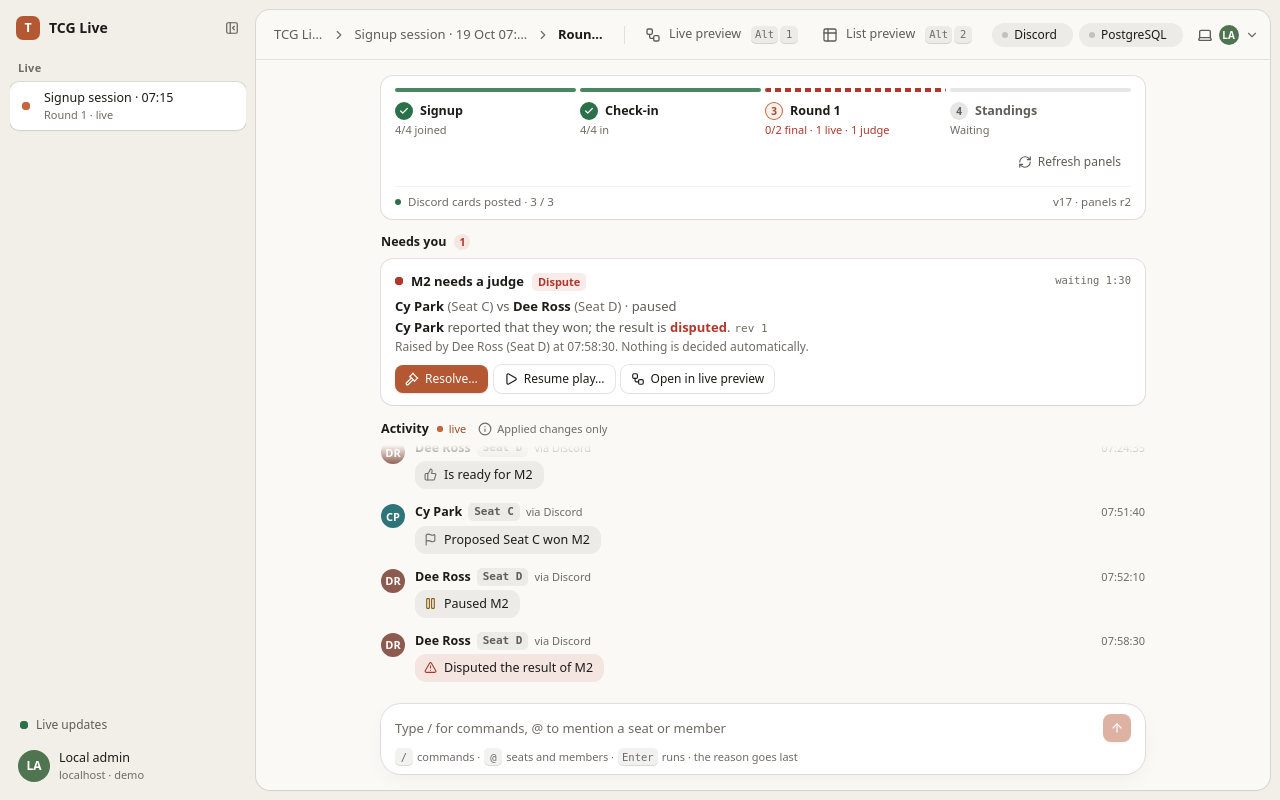
reason dialogs › on 409 puts the returned snapshot into the cache before the admin decides again
(page scrolled)
Click the button with aria-label "Resolve M2": x=441, y=379 [395, 365, 488, 393]
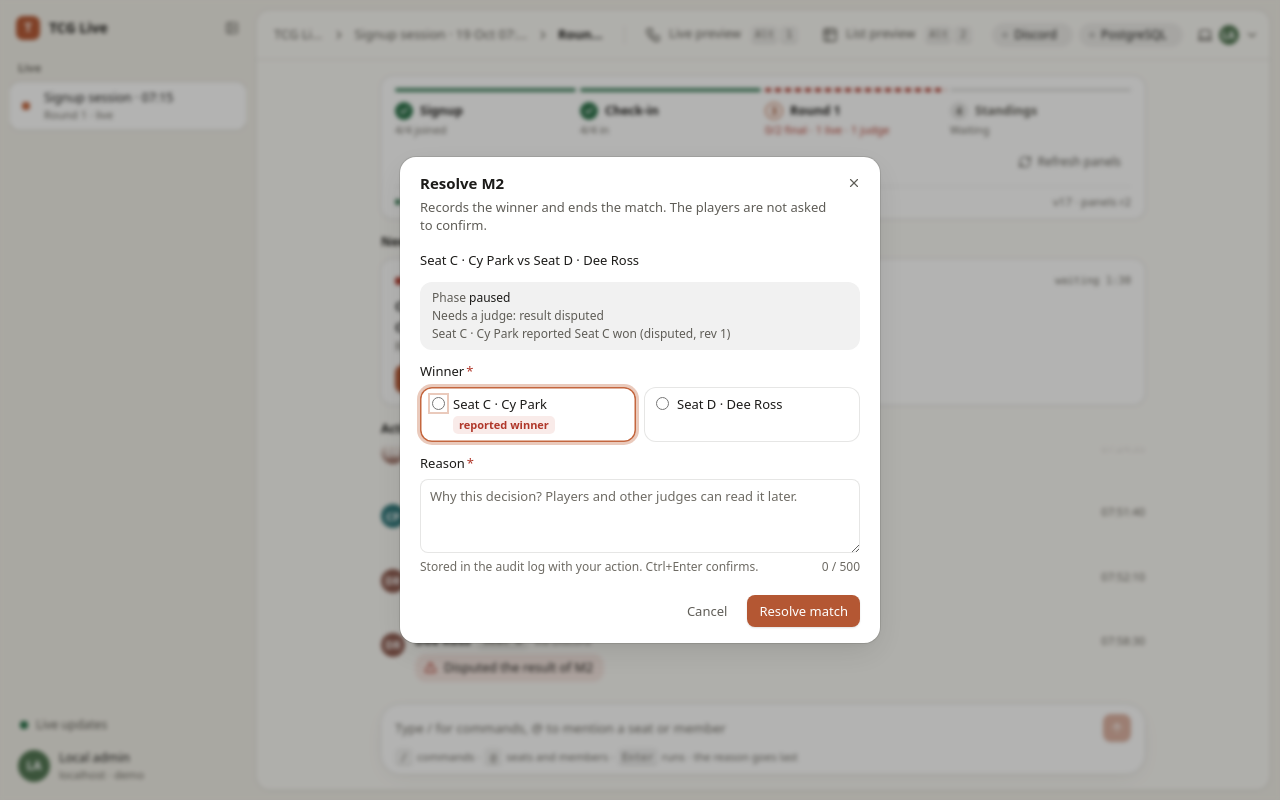
Click the radio button labelled "Seat C · Cy Park reported winner": x=438, y=403 [432, 397, 445, 410]
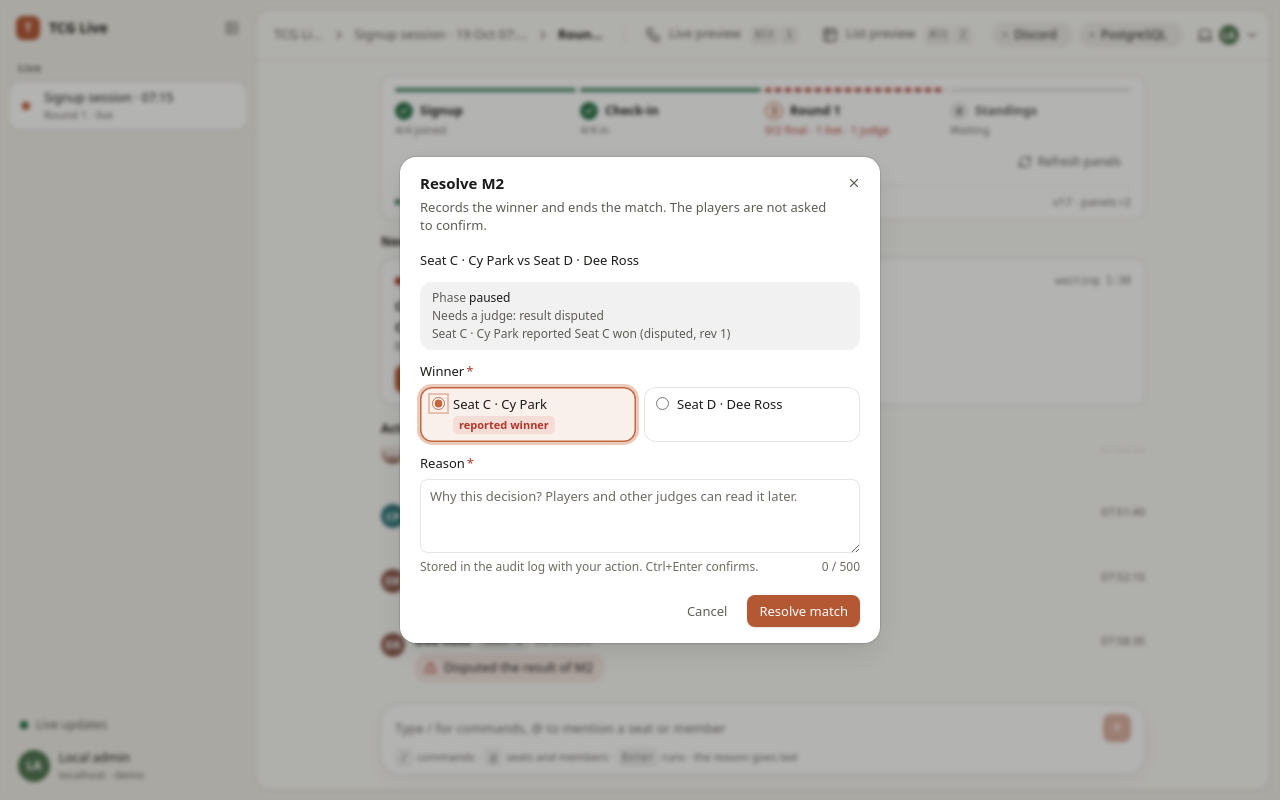
Replace the text in the text box labelled "Reason*" with "Ruling": x=640, y=516 [420, 479, 860, 553]
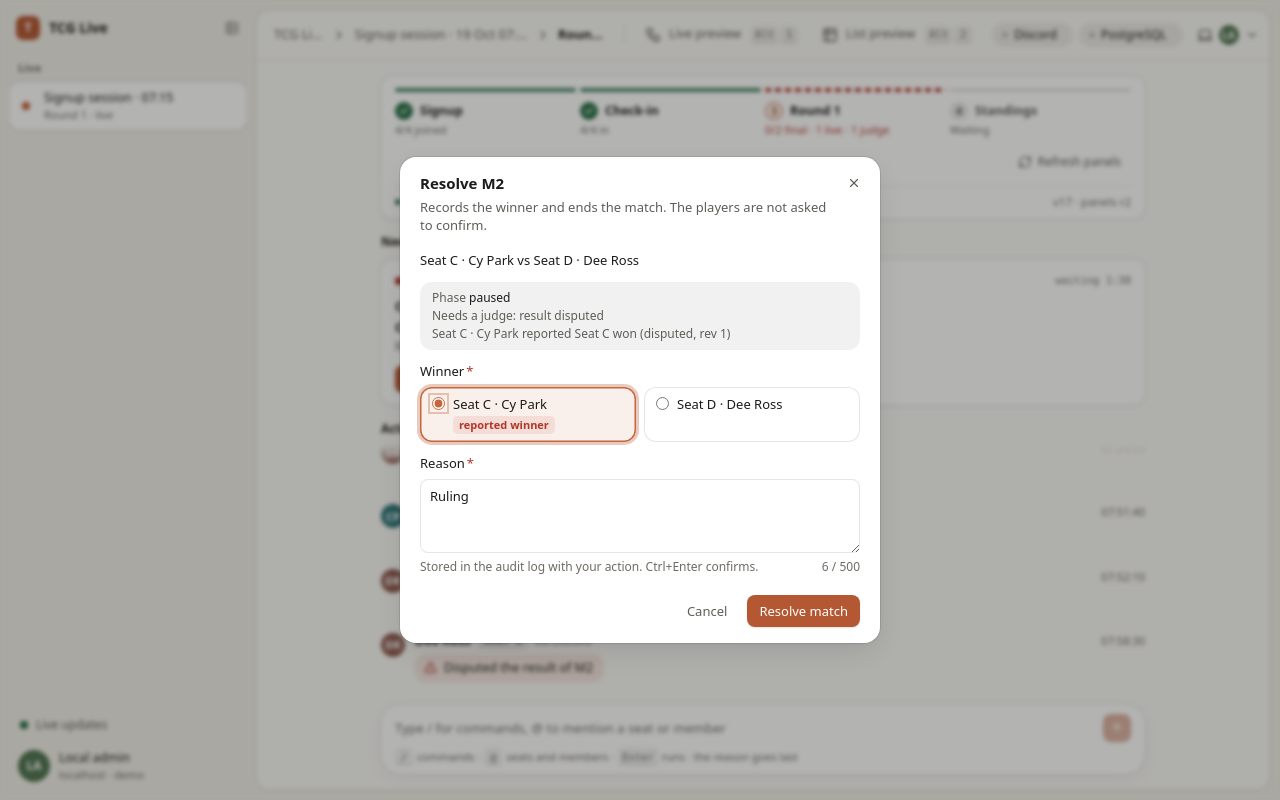
Click the button "Resolve match": x=804, y=611 [747, 595, 860, 627]
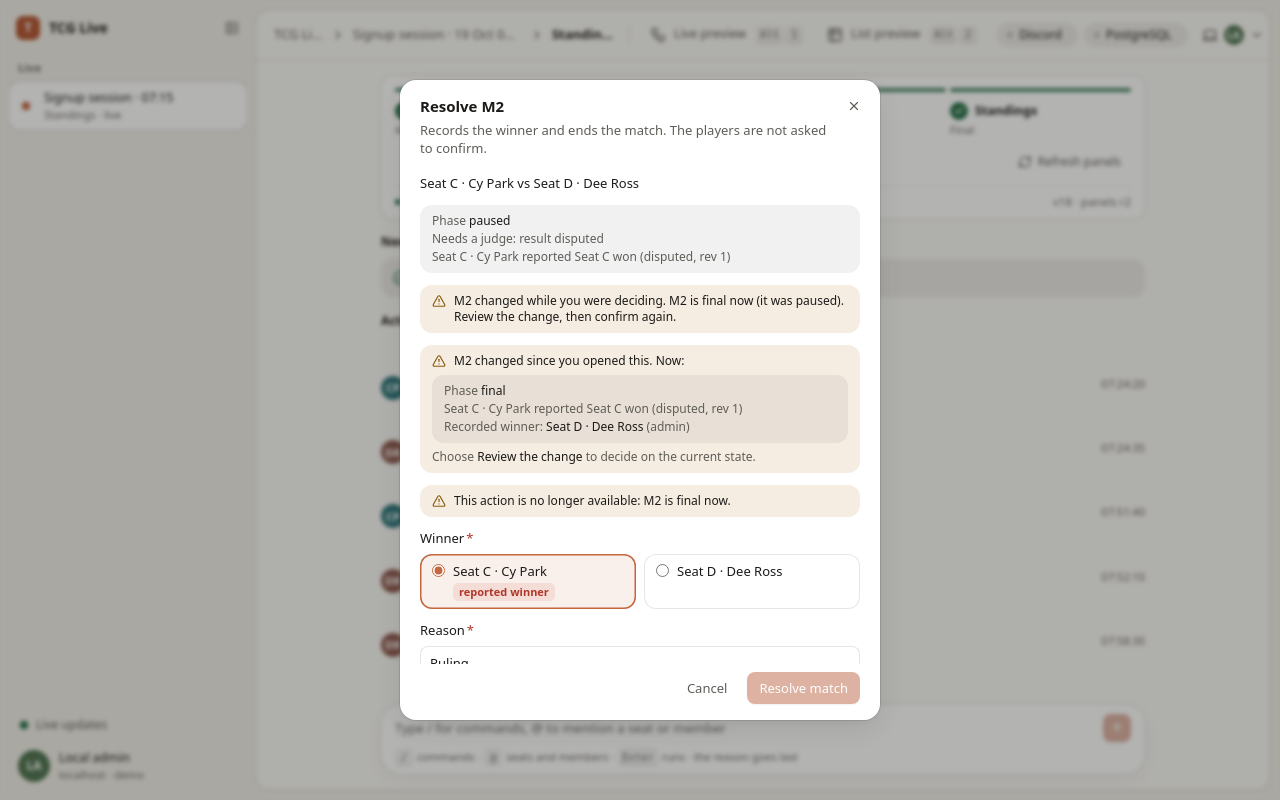
Result: the dialog "Resolve M2" shows "M2 changed while you were deciding. M2 is final now (it was paused)." at [454, 292, 844, 325]
Result: the dialog "Resolve M2" shows "This action is no longer available: M2 is final now." at [454, 492, 731, 509]
Result: the button "Resolve match" is disabled at [747, 672, 860, 704]
